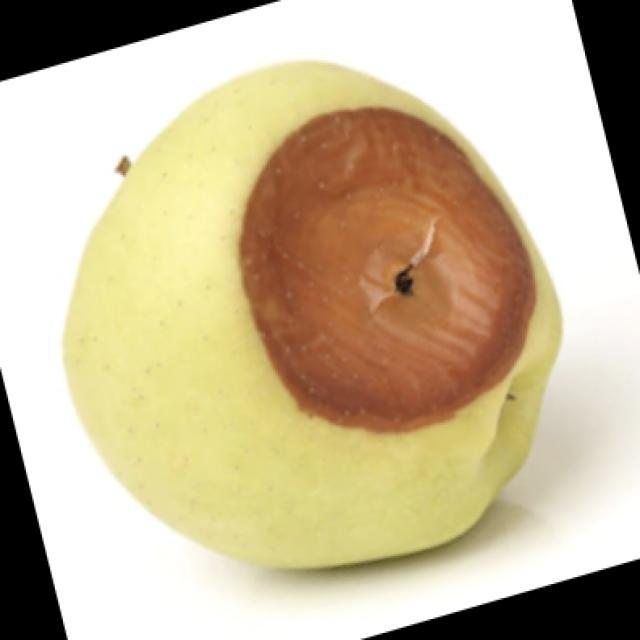Rotten: (63, 61, 565, 562)
